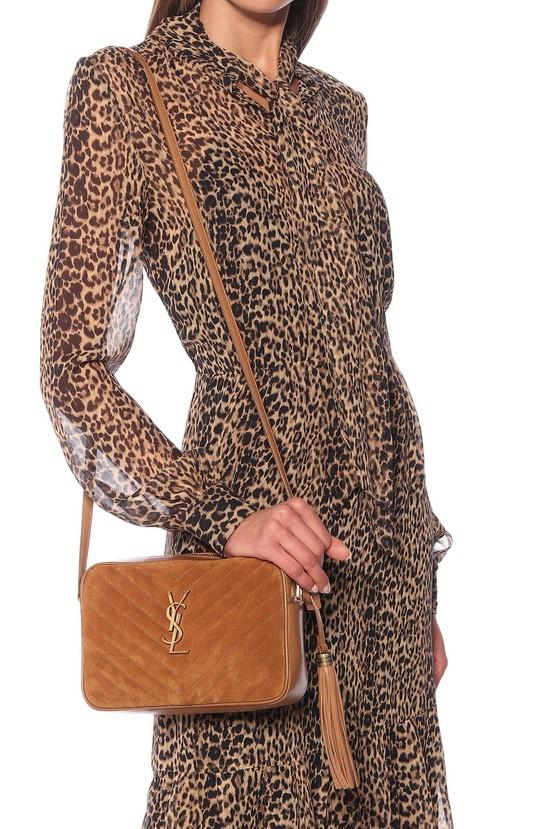YVES-SAINT-LAURENT: (162, 591, 190, 654)
